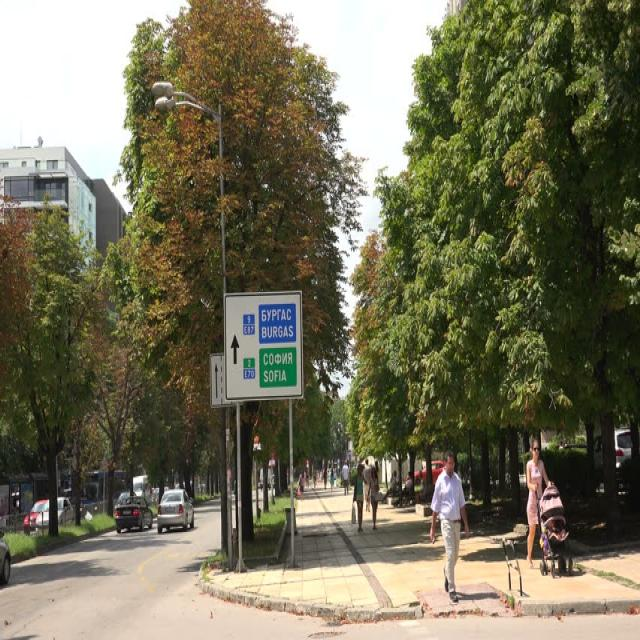body: (426, 444, 470, 605), (525, 433, 555, 572), (366, 464, 384, 532), (352, 463, 368, 533), (541, 513, 566, 539), (380, 469, 397, 504), (312, 466, 335, 491), (400, 469, 414, 508), (461, 584, 497, 599), (363, 456, 372, 513), (415, 468, 426, 508), (295, 468, 306, 504), (341, 459, 349, 497), (374, 460, 382, 488), (11, 491, 18, 512), (305, 465, 309, 488)
